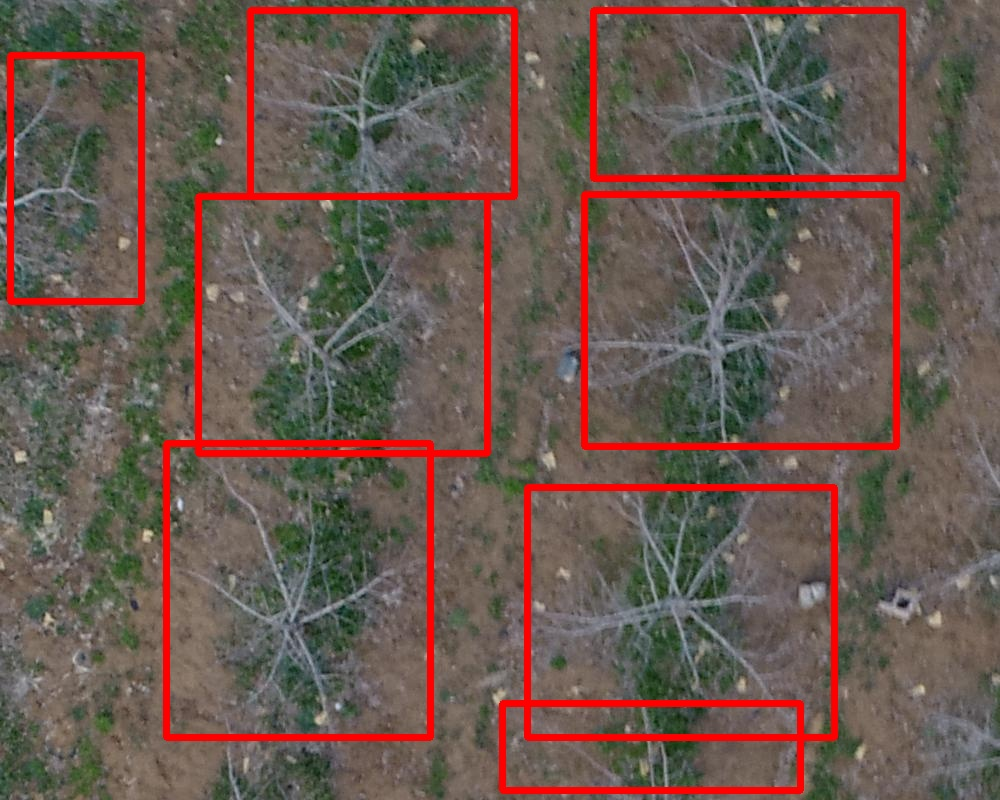apple: (584, 194, 896, 446), (166, 443, 430, 737), (527, 487, 834, 737), (198, 196, 487, 453), (593, 10, 902, 178), (250, 10, 514, 196), (10, 55, 141, 301), (502, 703, 800, 790)
